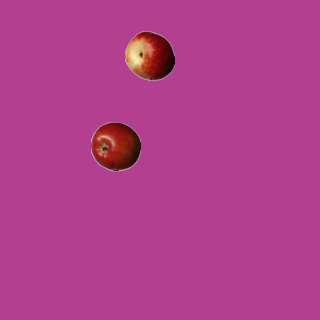Apple Braeburn: (90, 121, 140, 171)
Nectarine: (124, 30, 174, 80)
